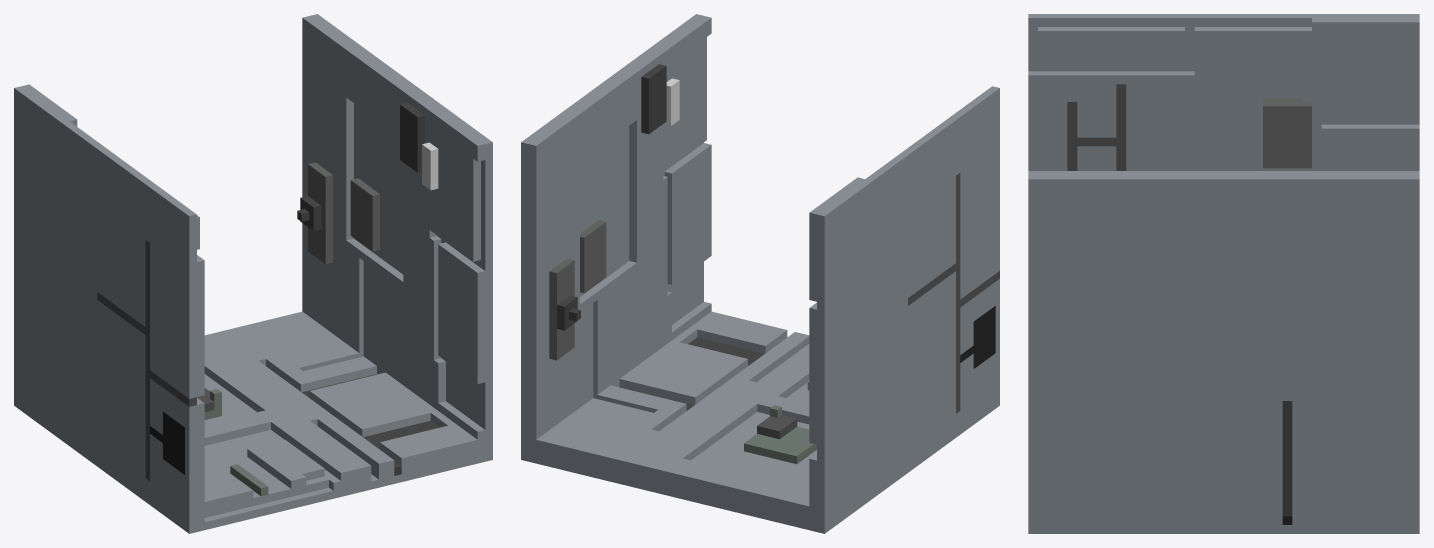
The model's file is environment.obj.
The picture shows the model from 3 angles, left to right: view 1: azimuth 30°, elevation 25°; view 2: azimuth 150°, elevation 25°; view 3: azimuth 270°, elevation 25°; orthographic projection. The views are drawn at different scales.
Size of the model in its own units: 40 by 40 by 40.
1 material, 1 textured.
